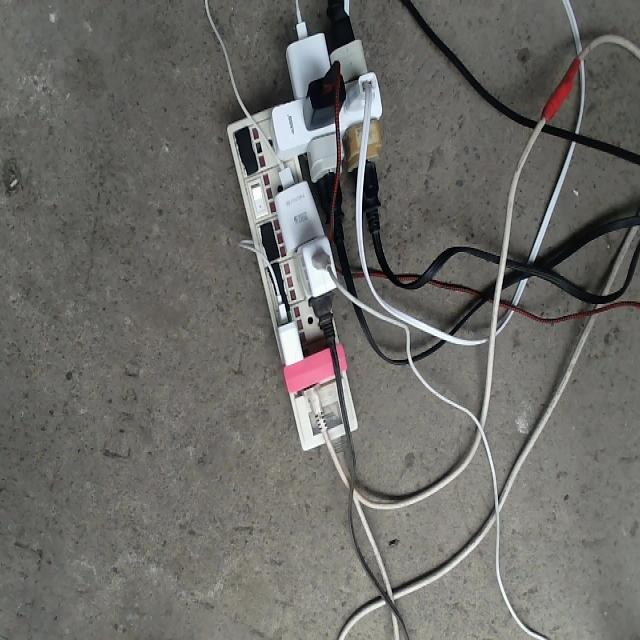-: (226, 17, 384, 456)
